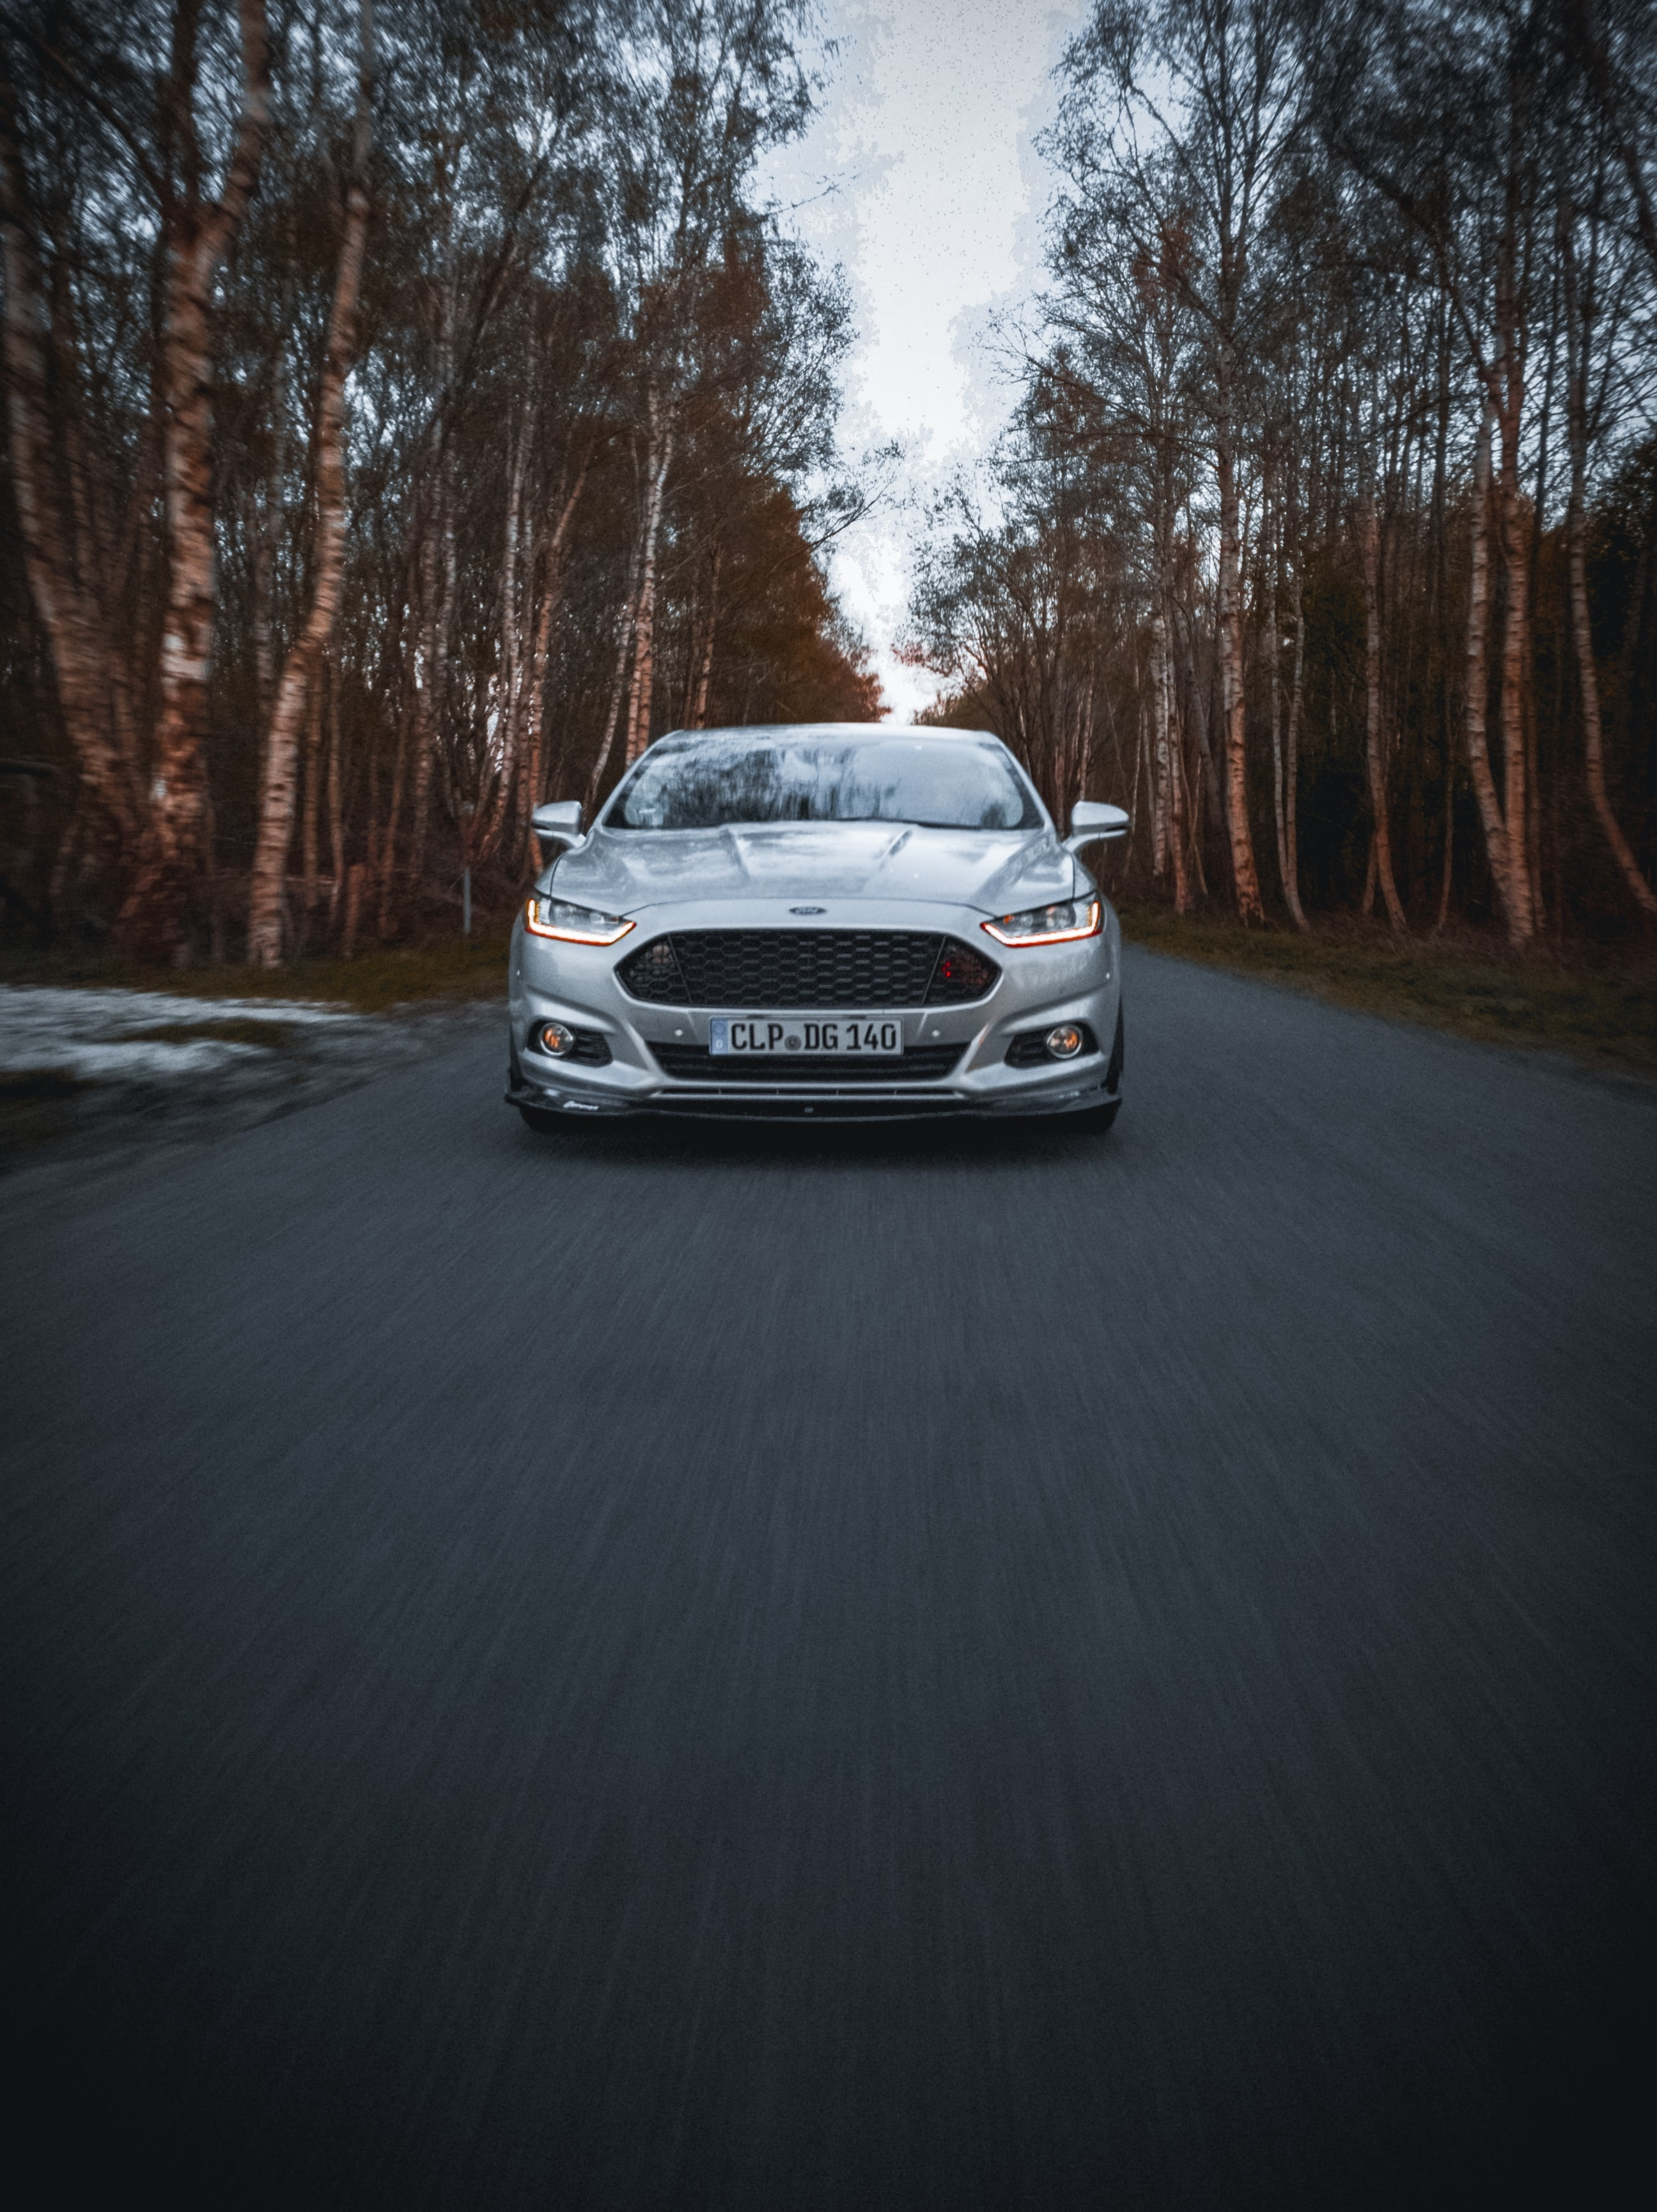plaka: (705, 1014, 905, 1059)
